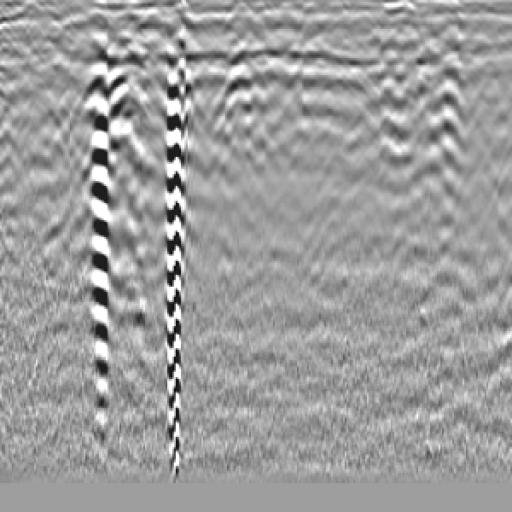metalic: (103, 54, 174, 293)
